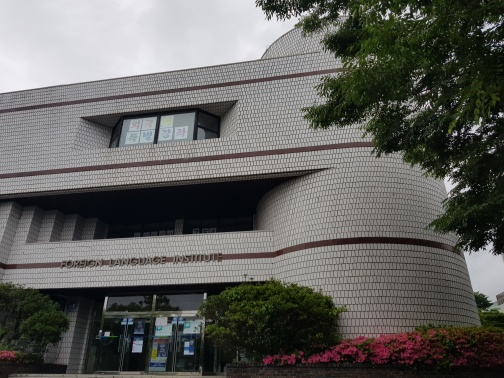Foreign Language Institute: (10, 39, 477, 350), (29, 219, 271, 371), (56, 248, 226, 272)
